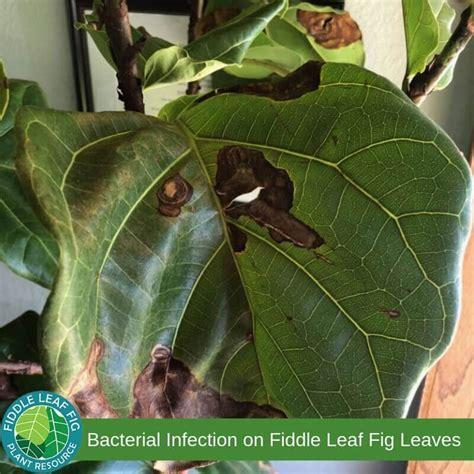black-spot: (147, 168, 194, 217)
